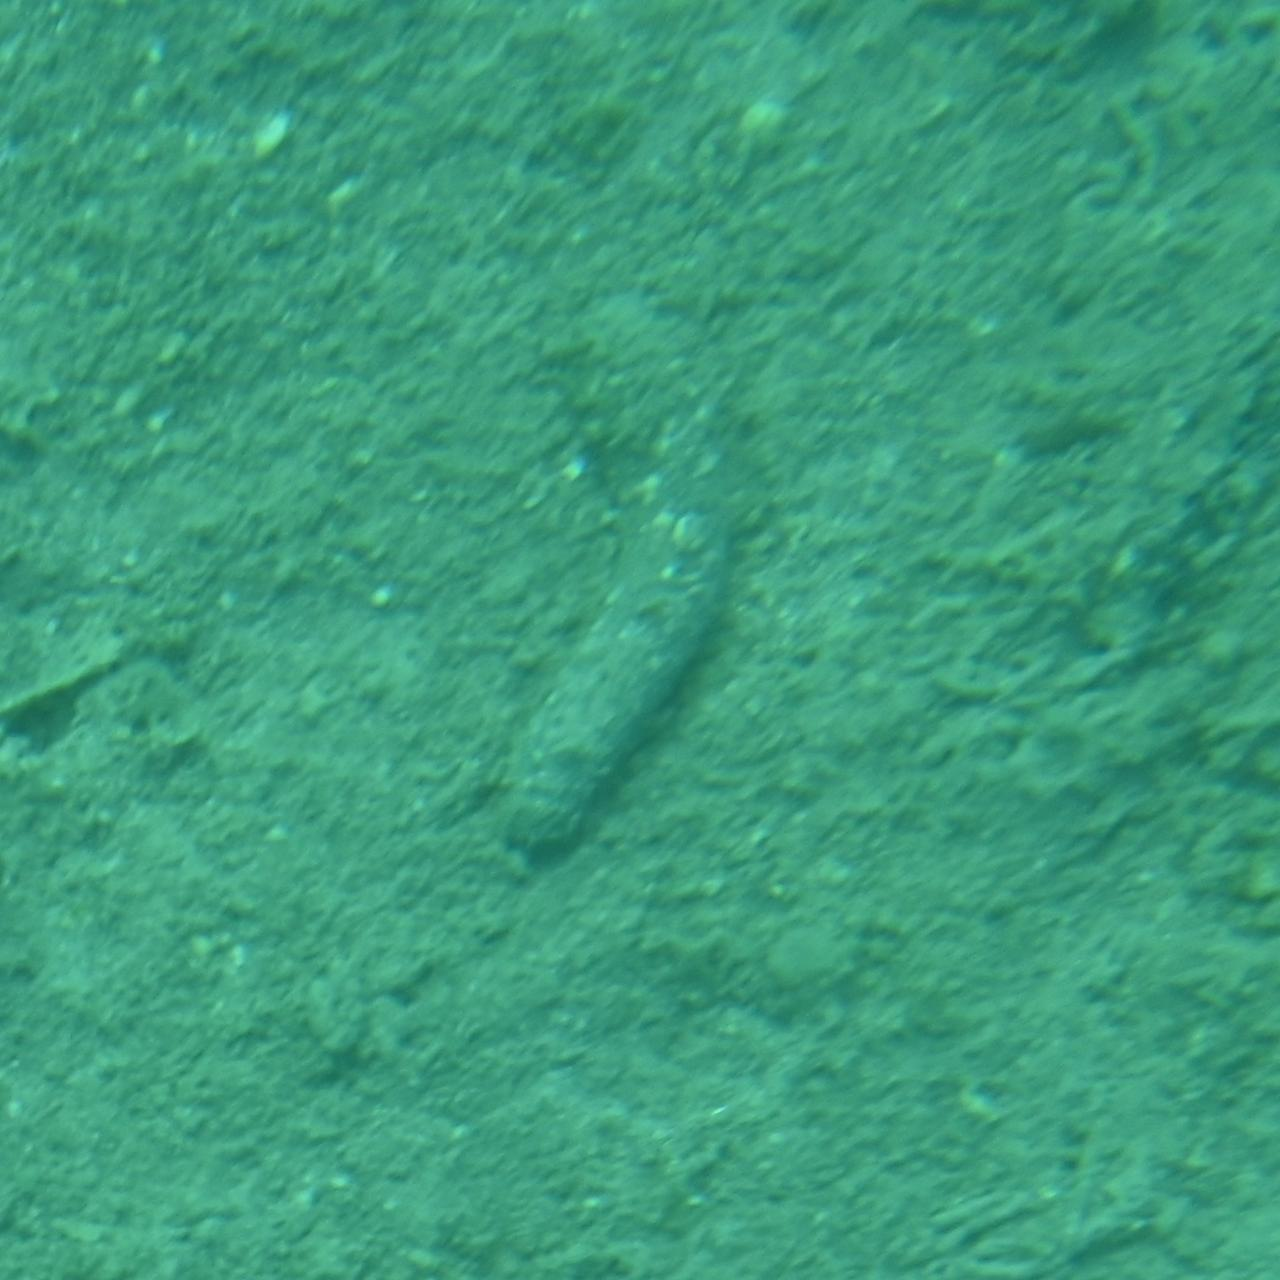Holothuria tubulosa: (491, 379, 789, 871)
